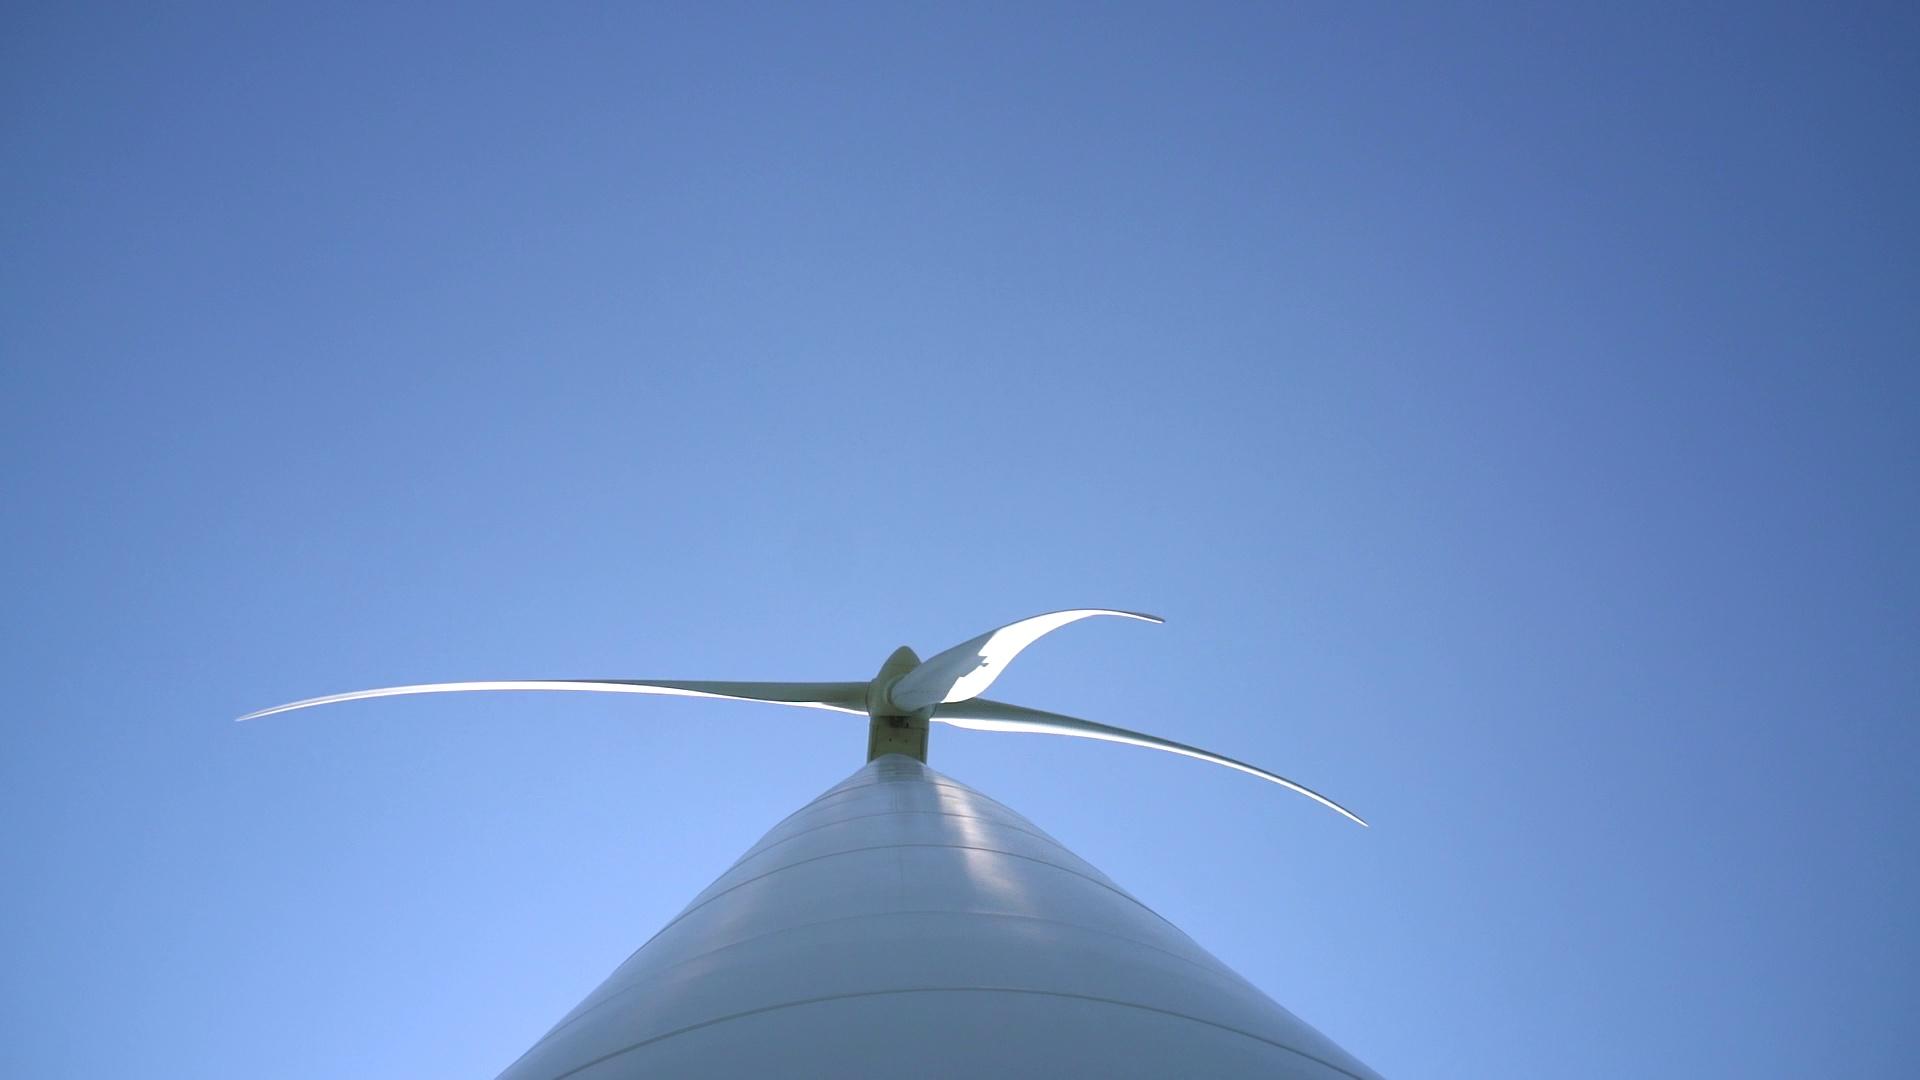turbine: (179, 604, 869, 771), (905, 658, 1386, 824), (927, 576, 1222, 717)
